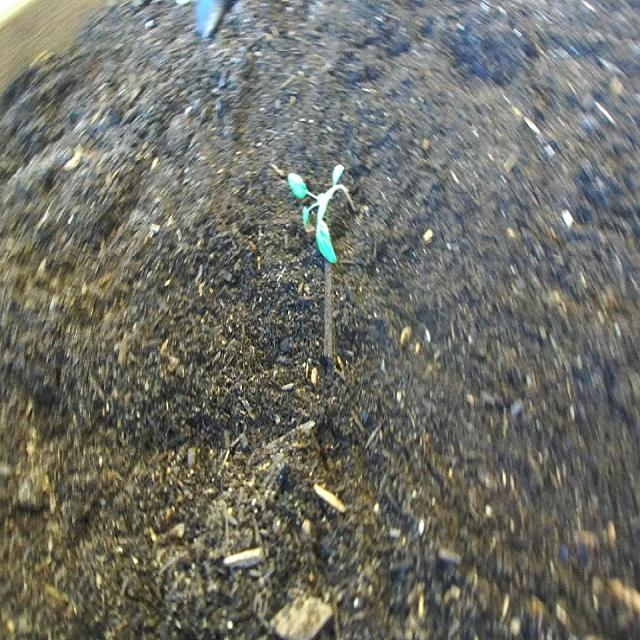Healthy: (283, 158, 363, 268)
